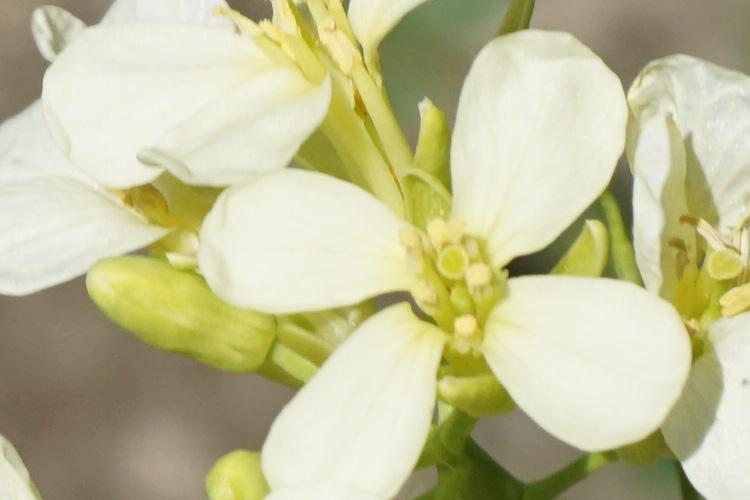bud: (67, 255, 277, 388)
white: (244, 89, 680, 473), (19, 20, 317, 257), (622, 76, 748, 499)
